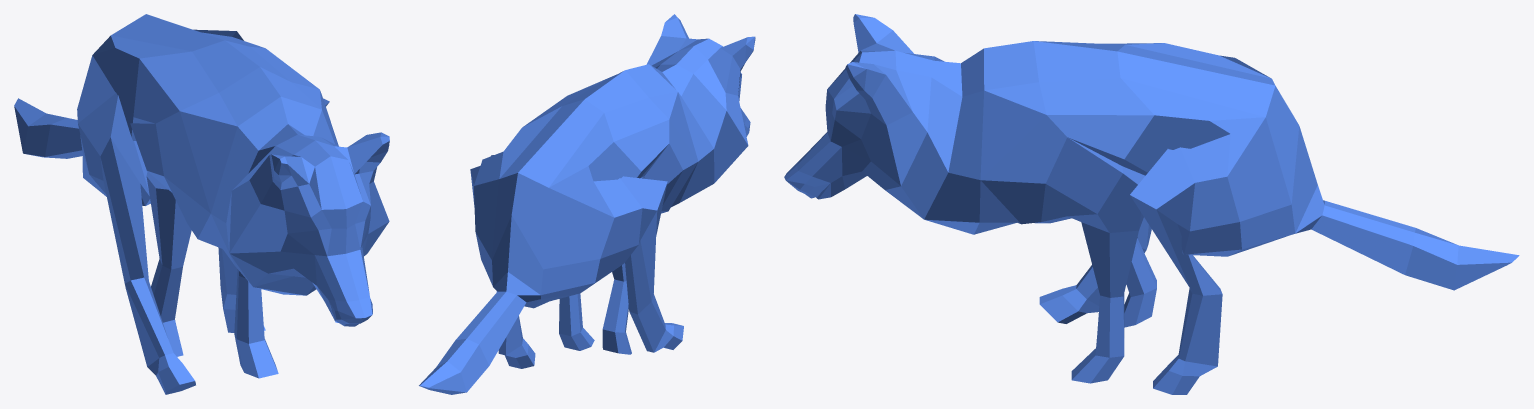
Rendered from wolfRunA_v009012.obj.
3 renders of one model, left to right at view 1: azimuth 30°, elevation 25°; view 2: azimuth 150°, elevation 25°; view 3: azimuth 270°, elevation 25°, orthographic. The views are drawn at different scales.
Visible parts, largest first — view 1: comp_wolf_rig:wolf_body comp_wolf_rig:wolf; view 2: comp_wolf_rig:wolf_body comp_wolf_rig:wolf; view 3: comp_wolf_rig:wolf_body comp_wolf_rig:wolf.
Part boxes in pixels (box(x1,y1,x2,y2)): comp_wolf_rig:wolf_body comp_wolf_rig:wolf: box(14, 14, 389, 394); comp_wolf_rig:wolf_body comp_wolf_rig:wolf: box(419, 14, 755, 394); comp_wolf_rig:wolf_body comp_wolf_rig:wolf: box(784, 14, 1519, 394).
Bounding box in the file's own units: 42.46 × 60.72 × 126.
